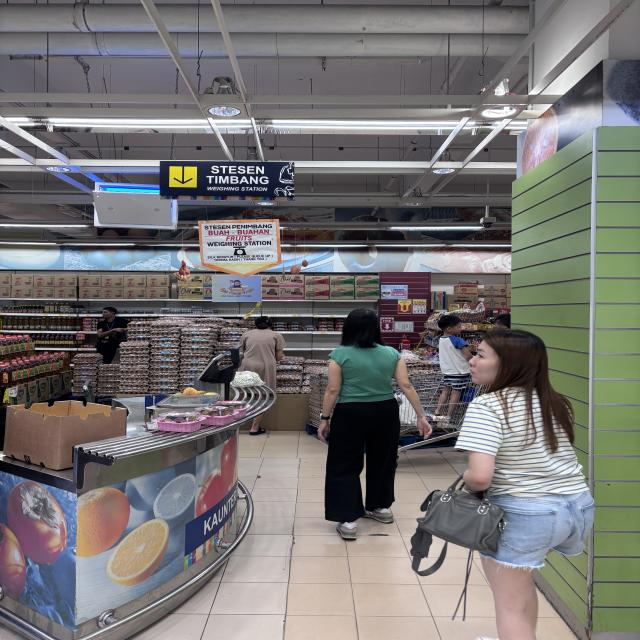Person: (417, 323, 605, 640), (318, 303, 436, 547), (236, 314, 289, 441), (432, 310, 472, 422), (93, 304, 135, 365)
